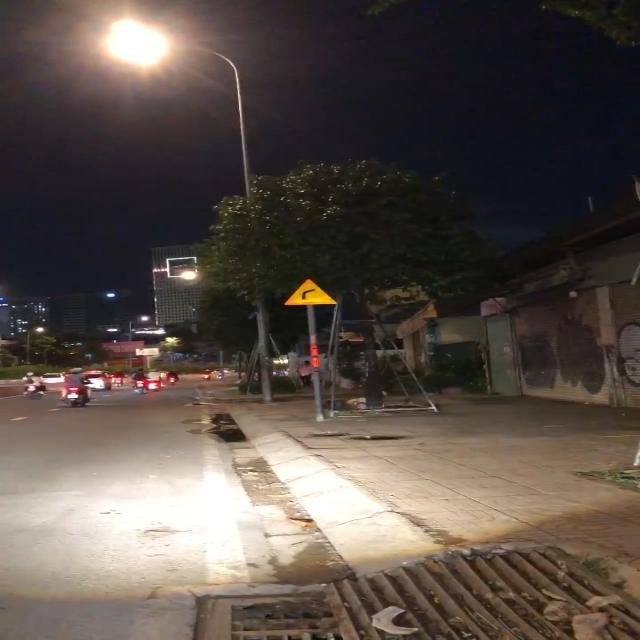Bien bao cho ngoat nguy hiem: (285, 276, 341, 308)
